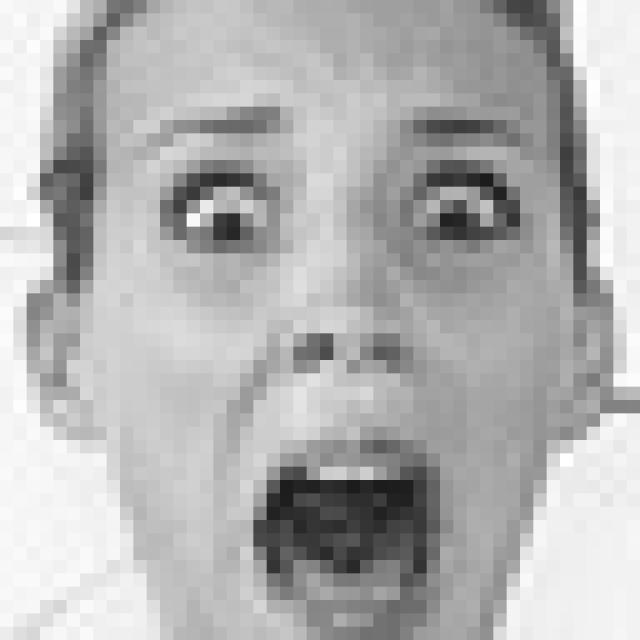fear: (133, 98, 536, 640)
